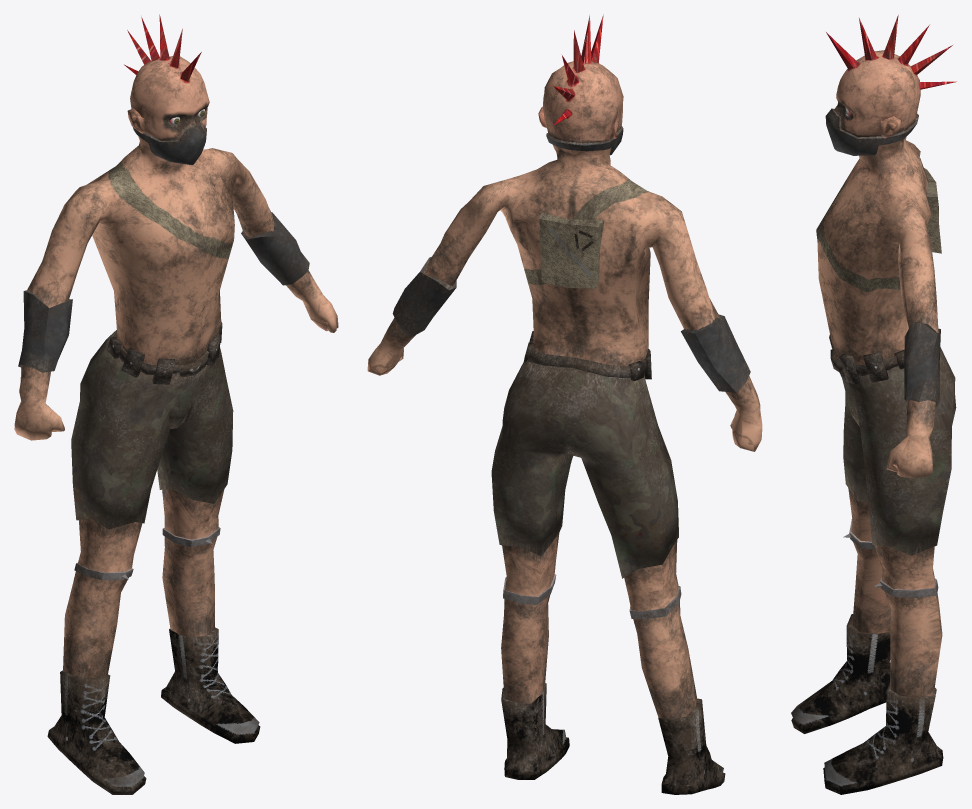
Rendered from Anim_arma_c_npc2.0040.obj.
The picture shows the model from 3 angles, left to right: view 1: azimuth 30°, elevation 25°; view 2: azimuth 150°, elevation 25°; view 3: azimuth 270°, elevation 25°; orthographic projection. The views are drawn at different scales.
Parts seen in each view (by area): view 1: polySurface1; view 2: polySurface1; view 3: polySurface1.
Boxes of the visible parts, x1=… form: polySurface1: x1=14, y1=14, x2=338, y2=794; polySurface1: x1=367, y1=14, x2=762, y2=794; polySurface1: x1=791, y1=15, x2=956, y2=794.
Bounding box in the file's own units: 5.2 × 10.45 × 2.1.
